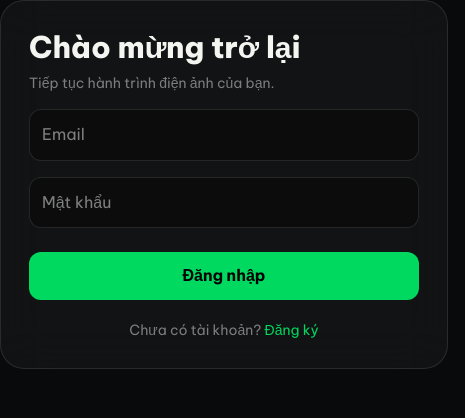
AuthForm › validate email và mật khẩu bằng Zod
The image size is (465, 418).
Type "sai-email" into the field with placeholder "Email".
click(224, 135); type("sai-email")  # box [29, 109, 419, 161]
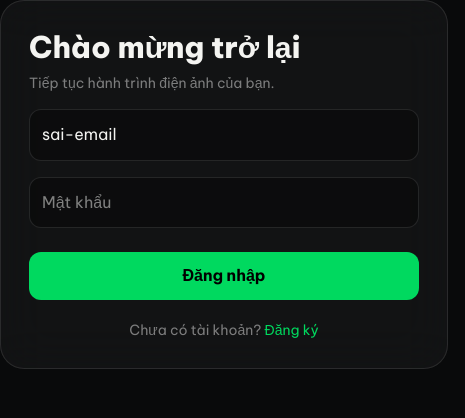
Type "123" into the password field with placeholder "Mật khẩu".
click(224, 202); type("123")  # box [29, 177, 419, 228]
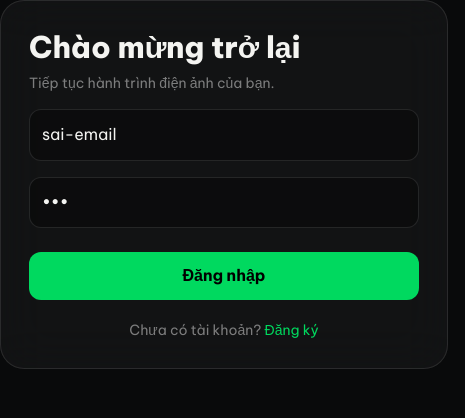
Submit the form "Đăng nhập"
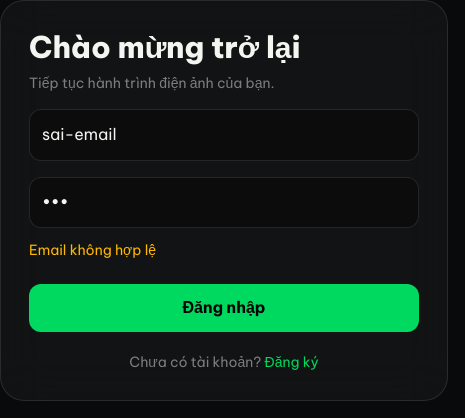
Result: the message reads "Email không hợp lệ" at [29, 241, 156, 259]
